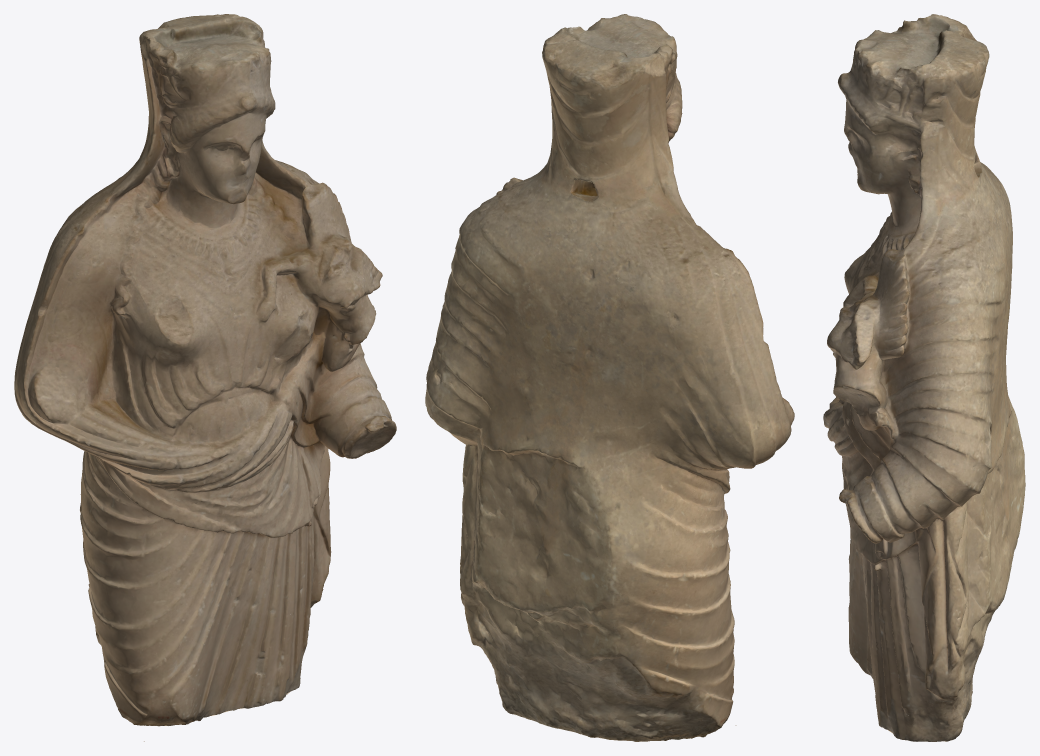
File: aphrodite_holding_winged_eros.glb
3 views of the same model, side by side, from view 1: azimuth 30°, elevation 25°; view 2: azimuth 150°, elevation 25°; view 3: azimuth 270°, elevation 25° (orthographic). The views are drawn at different scales.
Visible parts, largest first — view 1: _n3d; view 2: _n3d; view 3: _n3d.
Boxes of the visible parts, x1,y1,x2,y2 form: _n3d: [14, 14, 396, 741]; _n3d: [425, 14, 794, 741]; _n3d: [823, 14, 1025, 741].
Size of the model in its own units: 0.6761 by 1.27 by 0.3524.
1 material, 1 textured.
